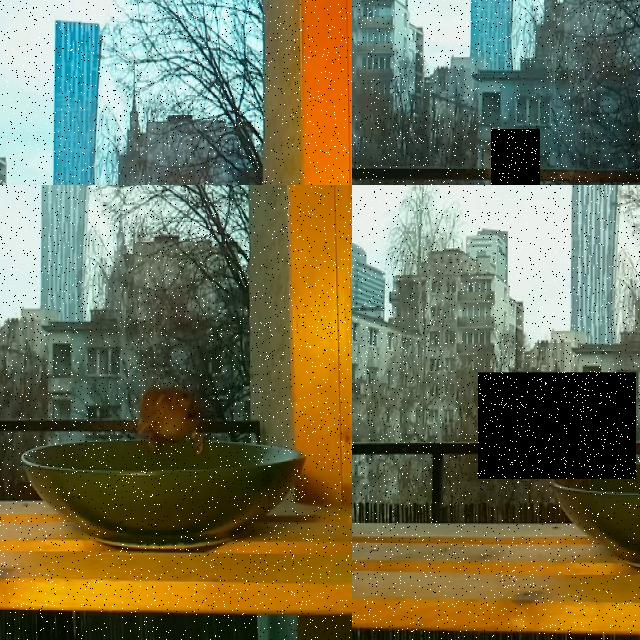Modraszka: (491, 129, 540, 185)
Wrobel: (478, 372, 636, 479), (136, 383, 211, 449)
